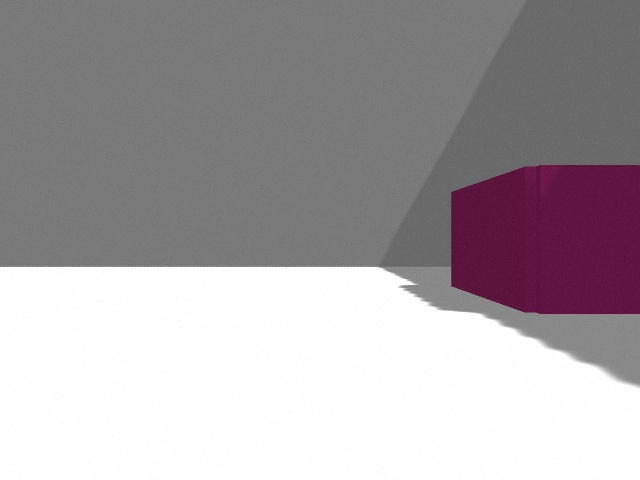red_drop_zone: (451, 165, 640, 314)
